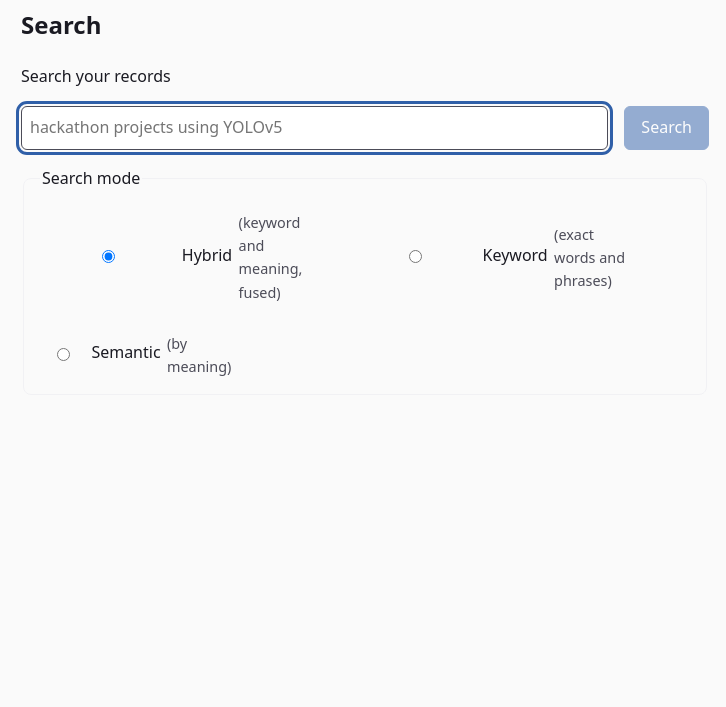
Test: SearchPage (MVP-018; FS-004; NFR-043; ACCESSIBILITY 4.3/4.5) › shows the degraded indicator exactly when the API reports it
This screenshot has width=726, height=707.
Step 1. Type "zebra" into the search field labelled "Search your records" → (315,128), box left=21, top=106, right=608, bottom=150
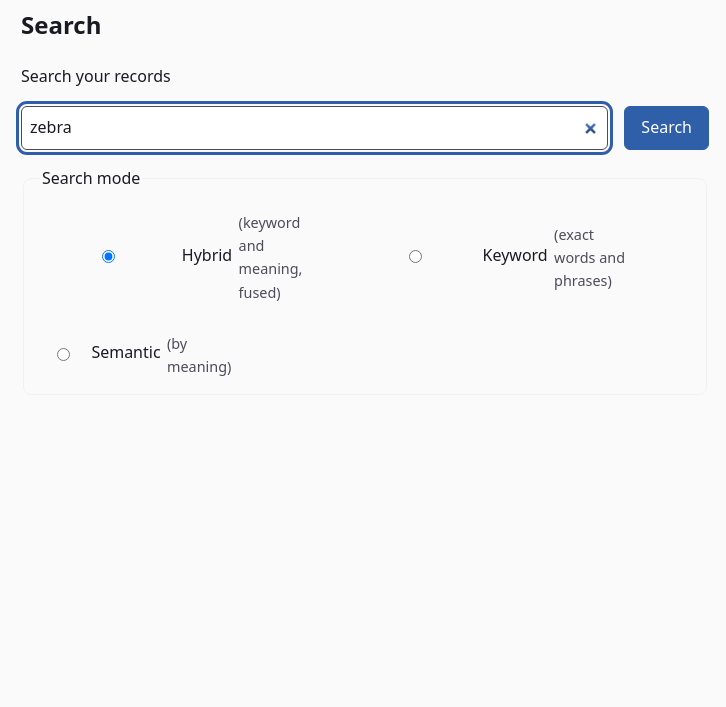
Step 2. Click the button "Search" → (667,128), box left=624, top=106, right=709, bottom=150
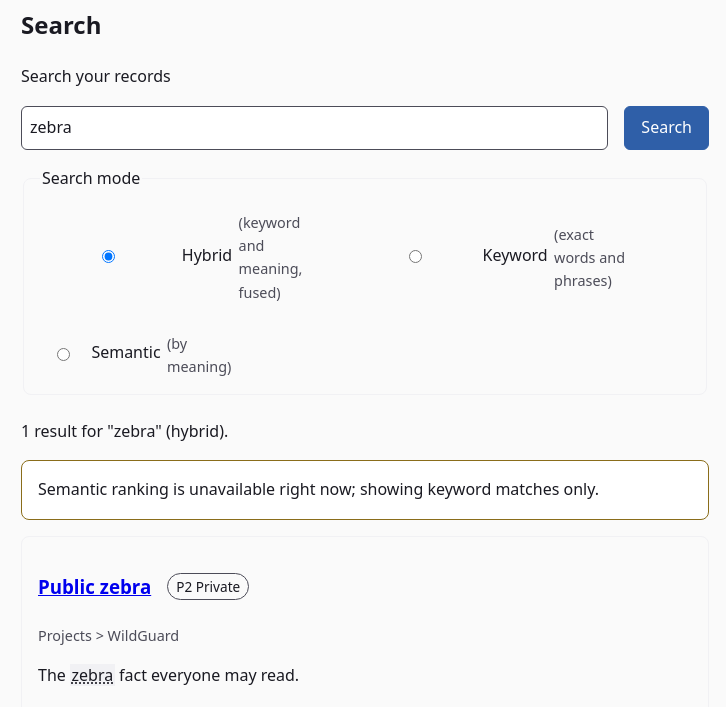
Check: the text "Semantic ranking is unavailable right now; showing keyword matches only." is shown, box left=21, top=460, right=709, bottom=520
